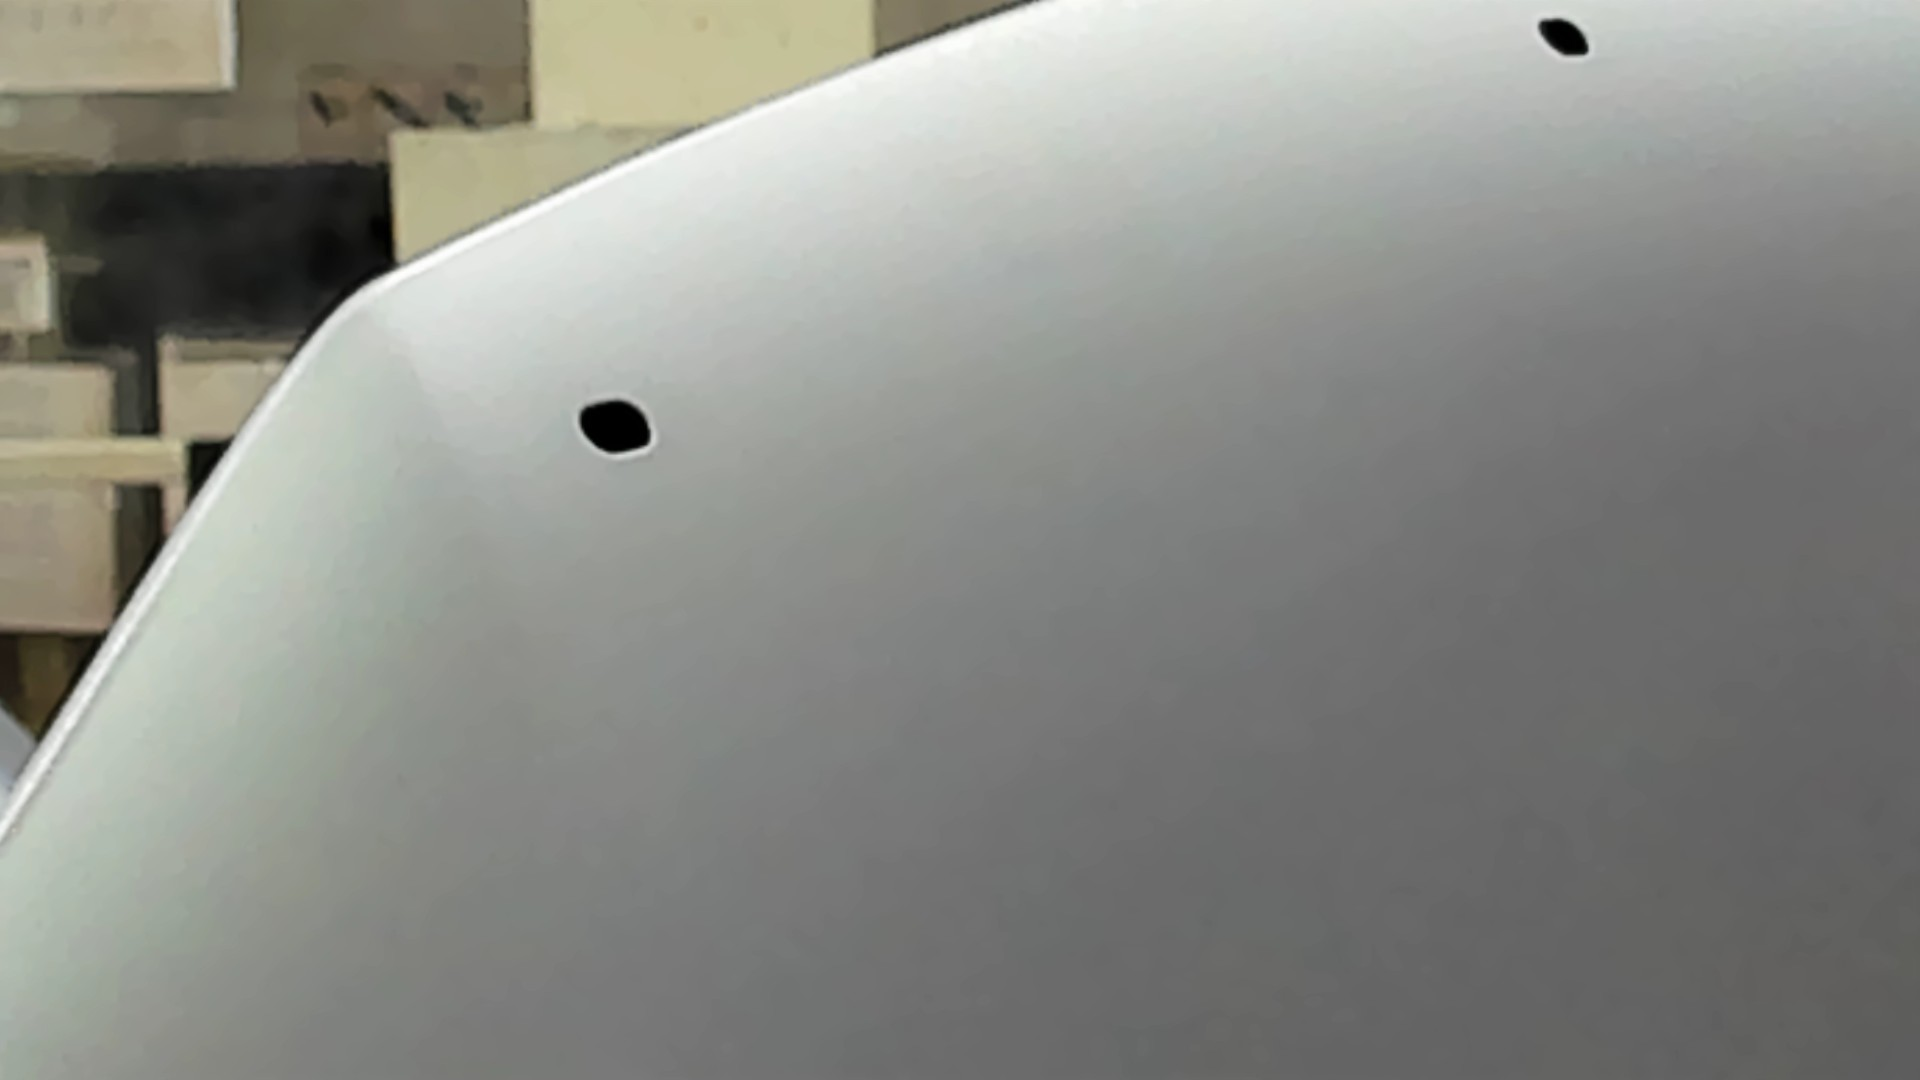amorfo: (568, 390, 669, 463), (1534, 11, 1596, 65)
